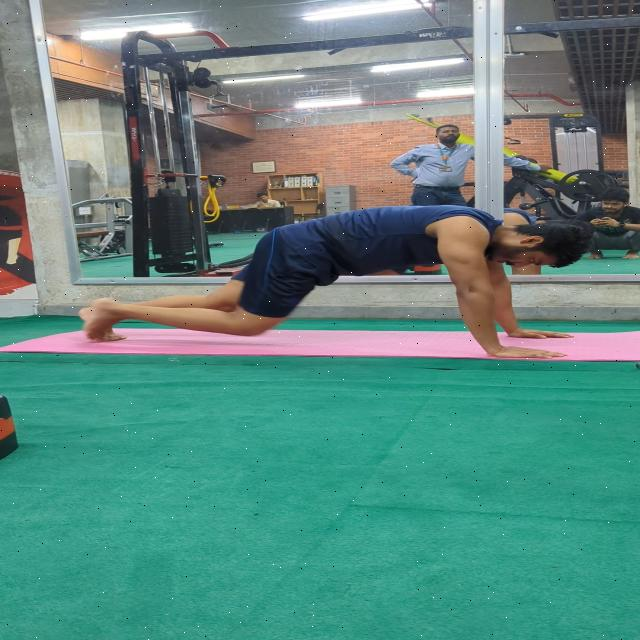Normal_MountainClimbers: (67, 202, 616, 361)
